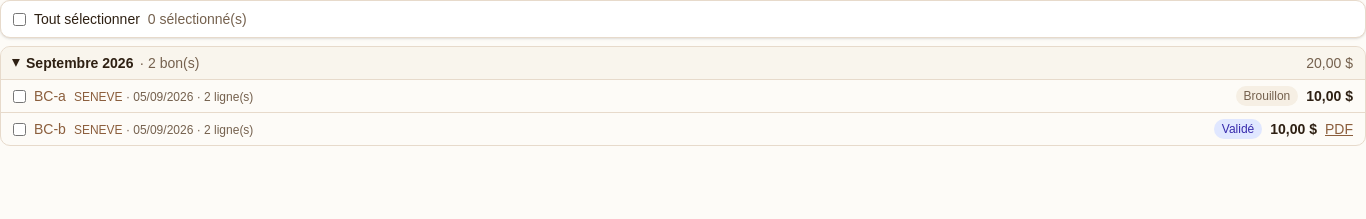
Test: actions groupées sur les bons › une action refusée affiche l'erreur et n'actualise pas
The width and height of the screenshot is (1366, 219).
Click the checkbox labelled "Tout sélectionner".
click(20, 19)  # box [13,12,26,26]
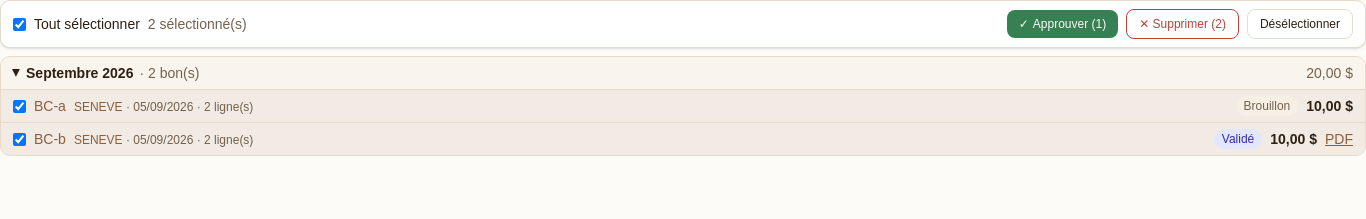
Click the button "✕ Supprimer (2)".
click(1183, 24)  # box [1126,9,1239,39]
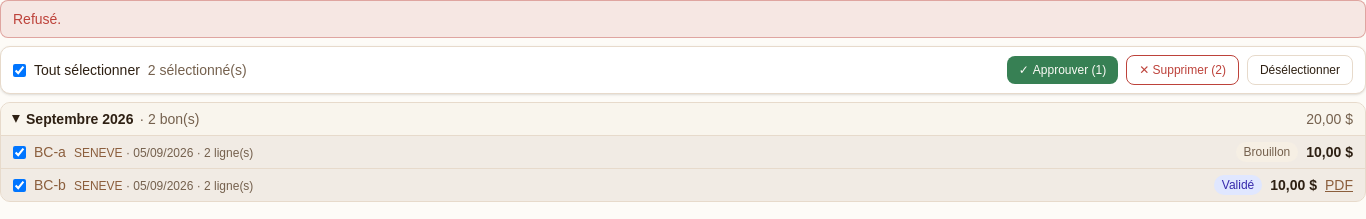
Check: the text "Refusé." is shown, box [0,0,1365,38]
